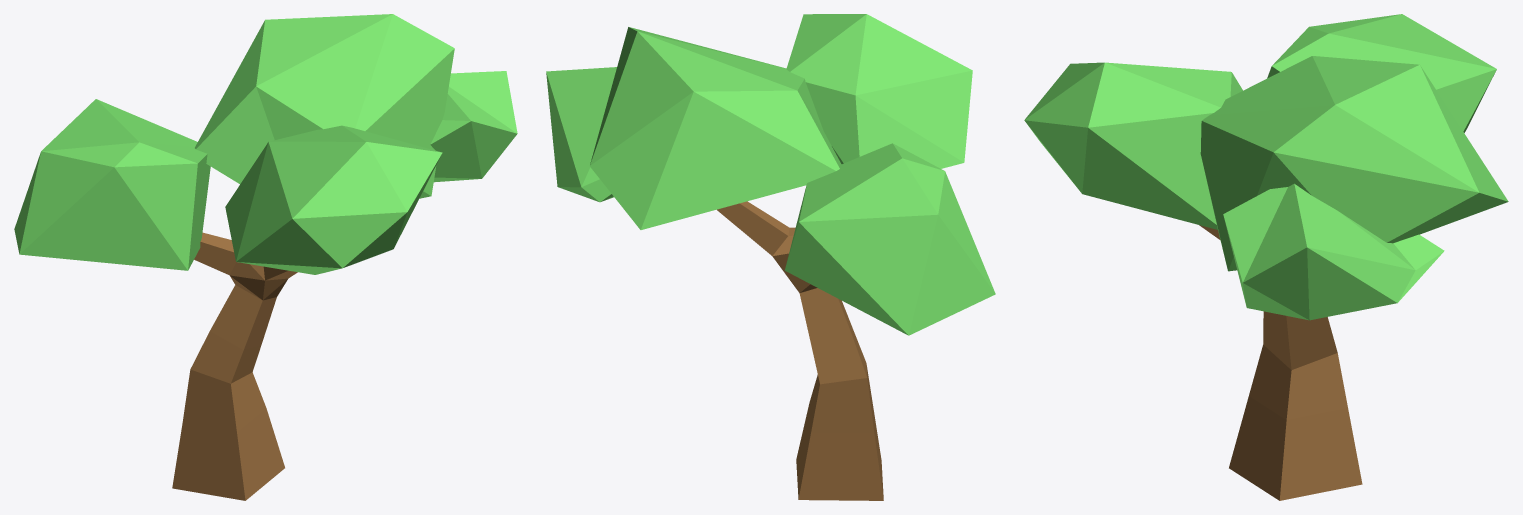
The model's file is tree1.fbx.
3 views of the same model, side by side, from view 1: azimuth 30°, elevation 25°; view 2: azimuth 150°, elevation 25°; view 3: azimuth 270°, elevation 25° (orthographic). The views are drawn at different scales.
Parts seen in each view (by area): view 1: Icosphere.003, Tree3; view 2: Icosphere.003, Tree3; view 3: Icosphere.003, Tree3.
Boxes of the visible parts, box(x1,y1,x2,y2) form: Icosphere.003: box(14, 14, 517, 274); Tree3: box(172, 232, 297, 500); Icosphere.003: box(546, 14, 995, 335); Tree3: box(717, 201, 883, 500); Icosphere.003: box(1024, 14, 1508, 320); Tree3: box(1199, 225, 1362, 500).
Bounding box in the file's own units: 1139 × 964 × 886.
